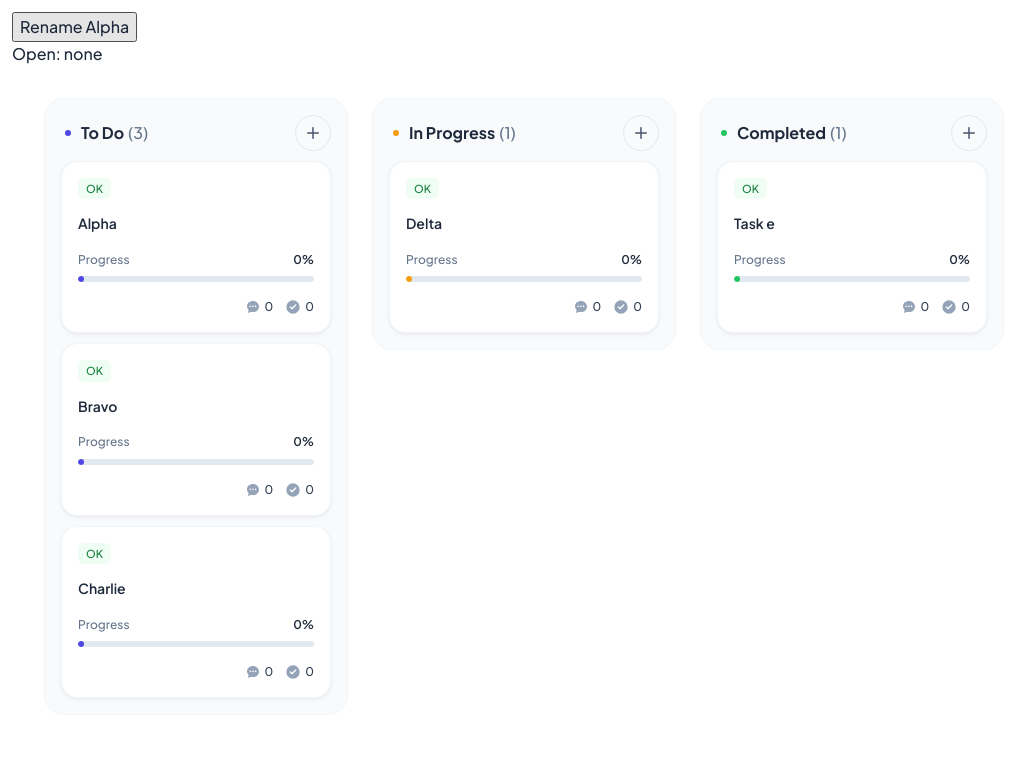
Test case: Board rendering › renders no cards when only state outside the board changes
Click the heading "Bravo": (98, 406) left=78, top=396, right=117, bottom=416
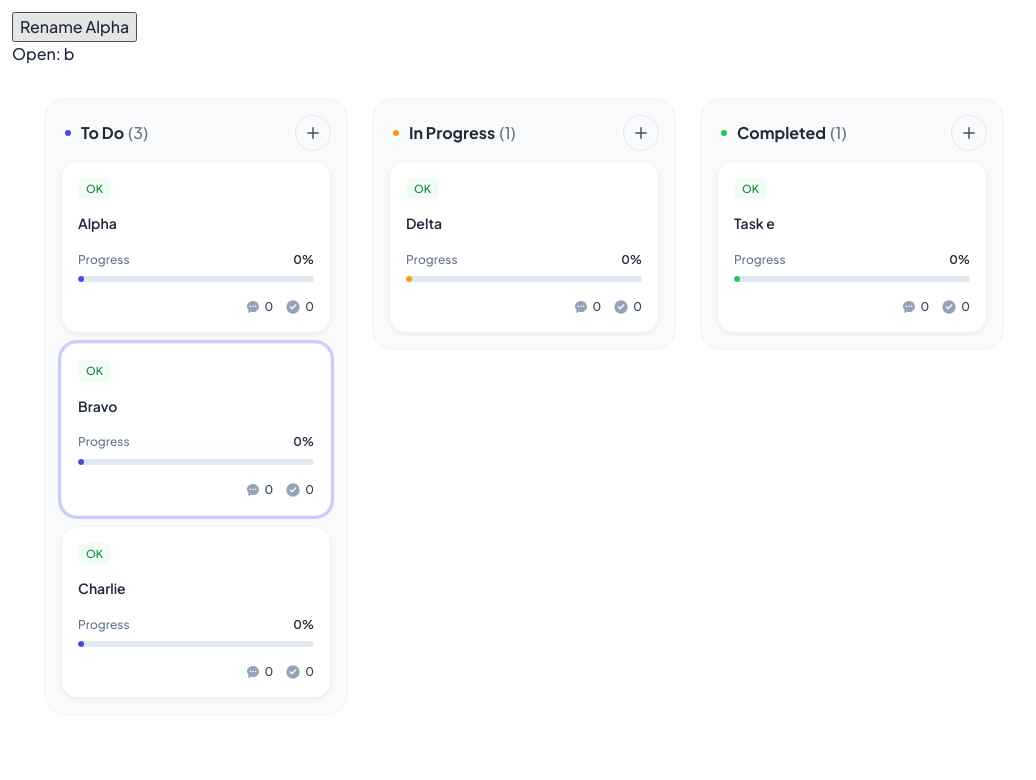
Expected: the text "Open: b" is shown, left=12, top=43, right=74, bottom=64
